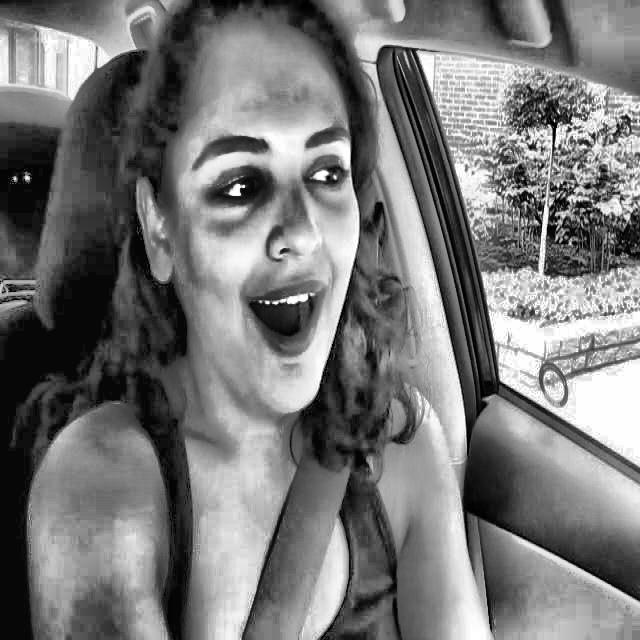open_eyes: (198, 152, 275, 218), (290, 149, 364, 207)
open_mouth: (238, 268, 337, 379)
